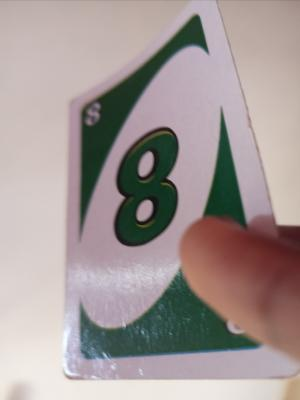green: (80, 94, 184, 353)
